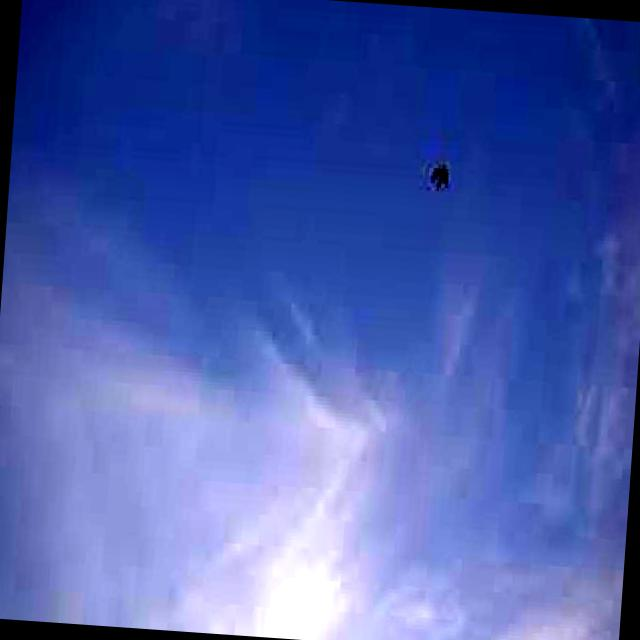bird: (428, 151, 452, 194)
